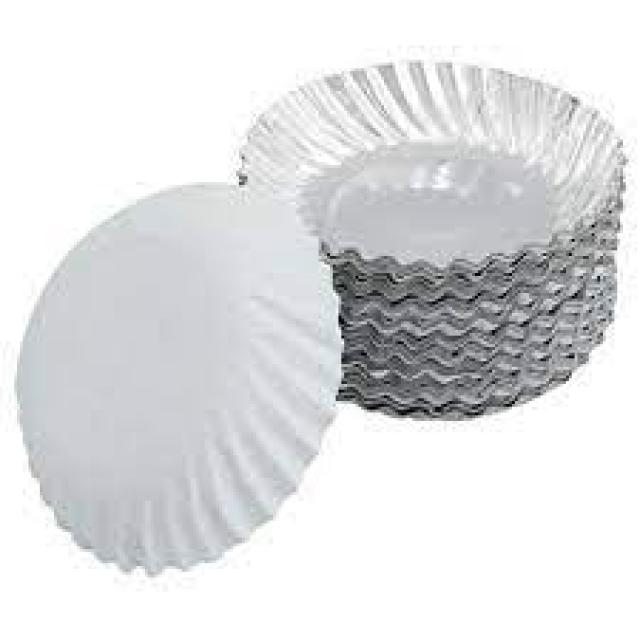PaperCardboard: (14, 55, 624, 570)
